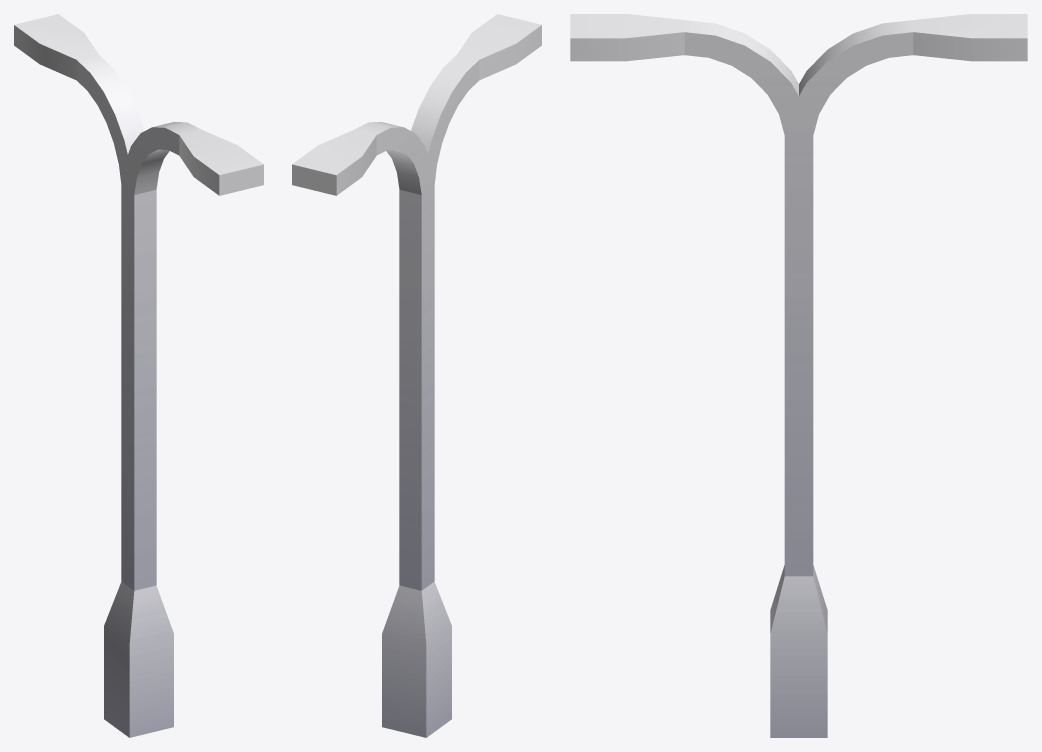
Rendered from light-curved-double.fbx.
3 views of the same model, side by side, from view 1: azimuth 30°, elevation 25°; view 2: azimuth 150°, elevation 25°; view 3: azimuth 270°, elevation 25° (orthographic). The views are drawn at different scales.
Parts seen in each view (by area): view 1: light-curved-double; view 2: light-curved-double; view 3: light-curved-double.
Part boxes in pixels (x1,y1,x2,y2): light-curved-double: [14, 14, 263, 737]; light-curved-double: [292, 14, 541, 737]; light-curved-double: [570, 14, 1027, 737].
Size of the model in its own units: 0.05 by 0.675 by 0.4.
